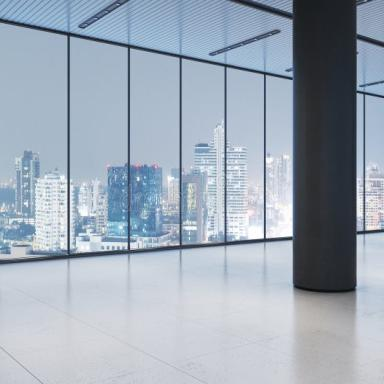glass_panel: (0, 25, 66, 257), (71, 39, 127, 252), (130, 50, 178, 248), (183, 60, 224, 243), (227, 68, 263, 240), (266, 76, 292, 238), (365, 94, 384, 230), (359, 41, 384, 87), (360, 93, 366, 228)
